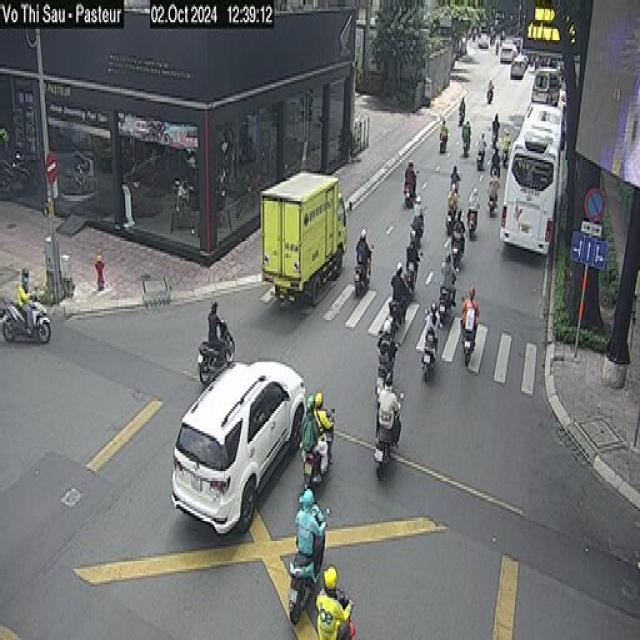bus: (496, 94, 565, 258)
car: (170, 354, 305, 538)
motorcycle: (285, 533, 318, 623), (5, 297, 52, 347), (198, 329, 240, 381), (298, 447, 329, 492), (373, 426, 396, 478), (423, 327, 439, 382), (352, 264, 372, 296), (388, 293, 408, 320), (438, 288, 452, 326), (460, 332, 475, 366), (399, 178, 415, 209), (372, 364, 387, 394), (448, 242, 464, 270), (405, 268, 418, 296), (467, 212, 478, 239), (446, 209, 456, 236), (474, 152, 485, 172), (487, 197, 497, 217), (460, 140, 470, 156), (439, 138, 448, 154), (486, 90, 495, 106), (456, 113, 466, 127), (492, 165, 499, 182)
person: (317, 564, 340, 636), (296, 486, 318, 555), (17, 266, 36, 337), (209, 303, 231, 363), (385, 368, 402, 433), (304, 395, 320, 462), (314, 387, 330, 448), (464, 284, 478, 340), (355, 224, 369, 263), (393, 258, 406, 297)
truck: (260, 166, 346, 306)
